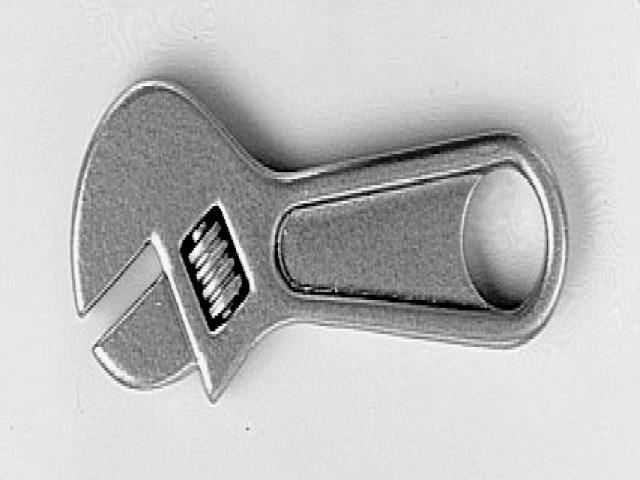Adjustable spanner: (72, 82, 568, 402)
